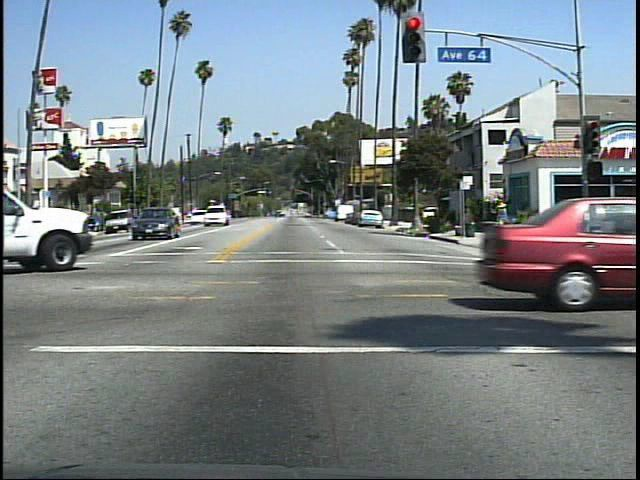person: (490, 195, 516, 244)
